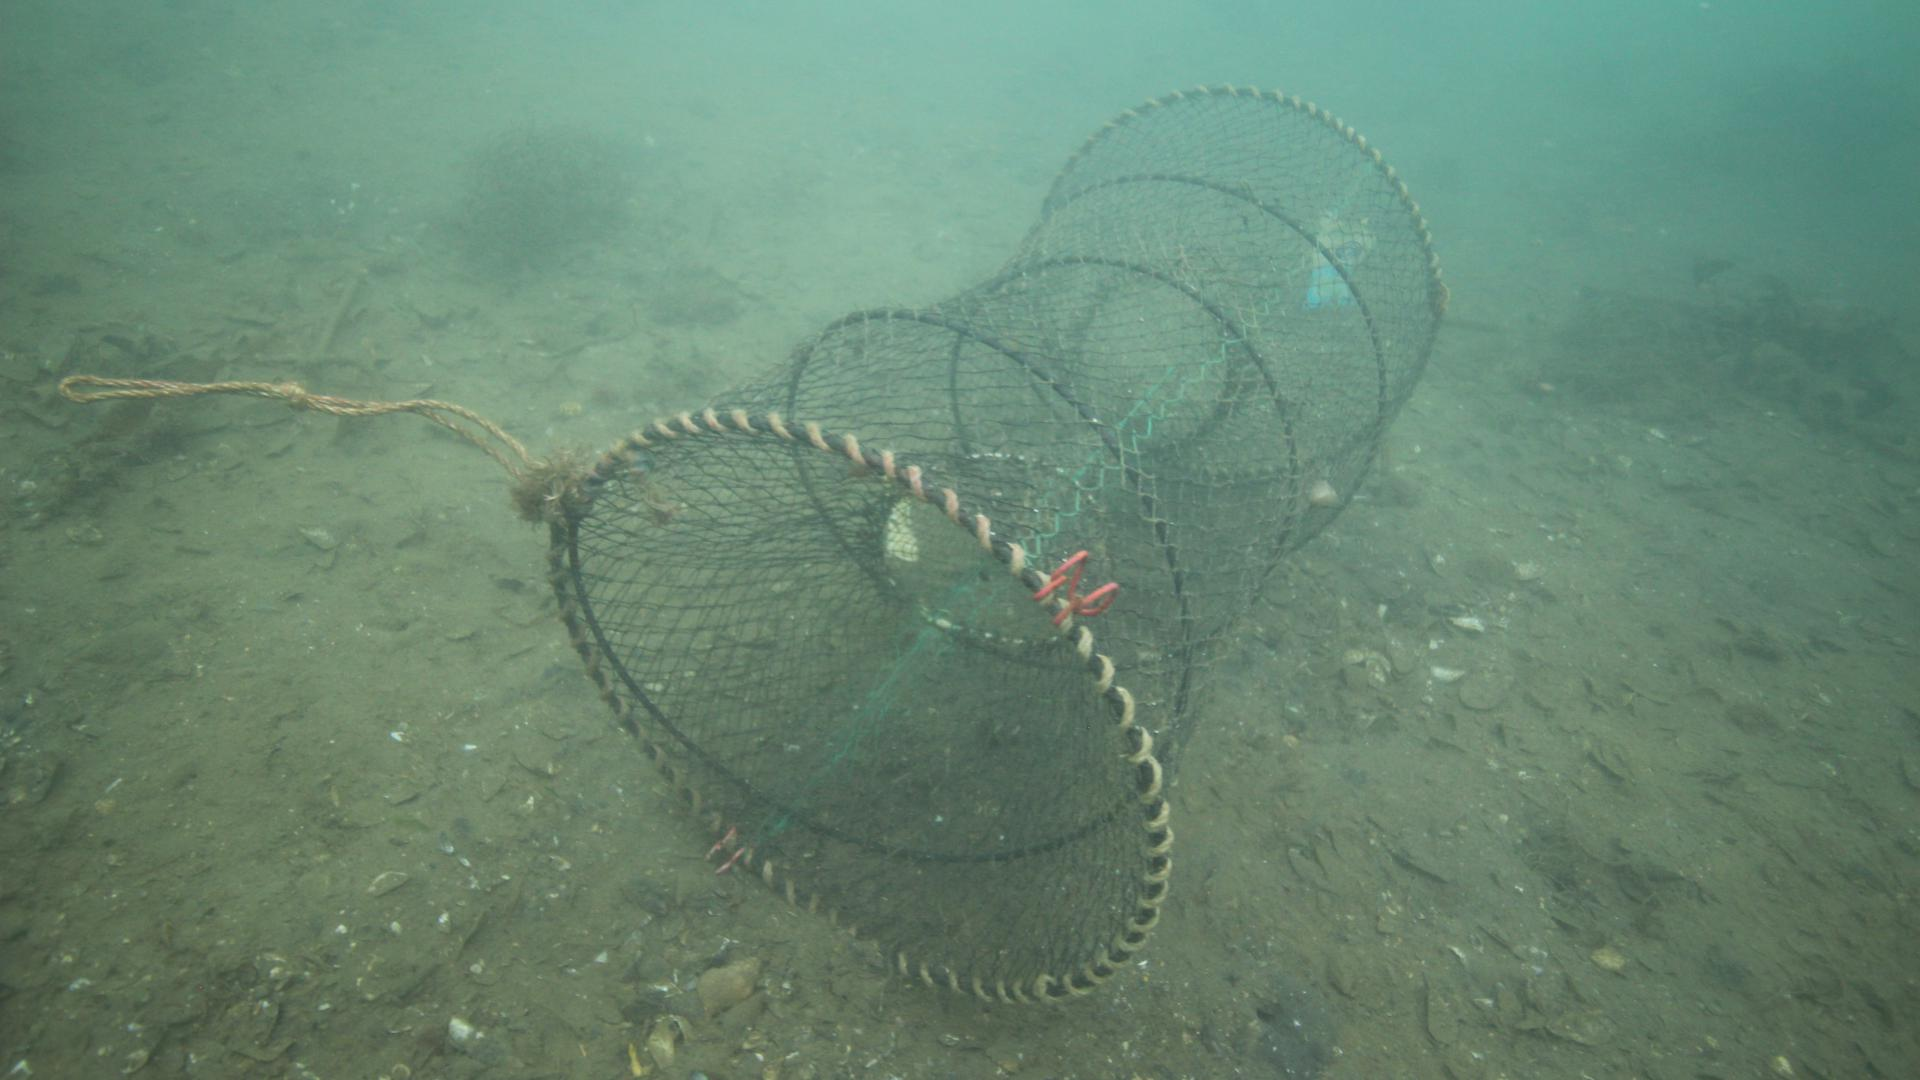bundle of ropes: (62, 359, 570, 483)
spring fish trap: (542, 82, 1452, 1006)
